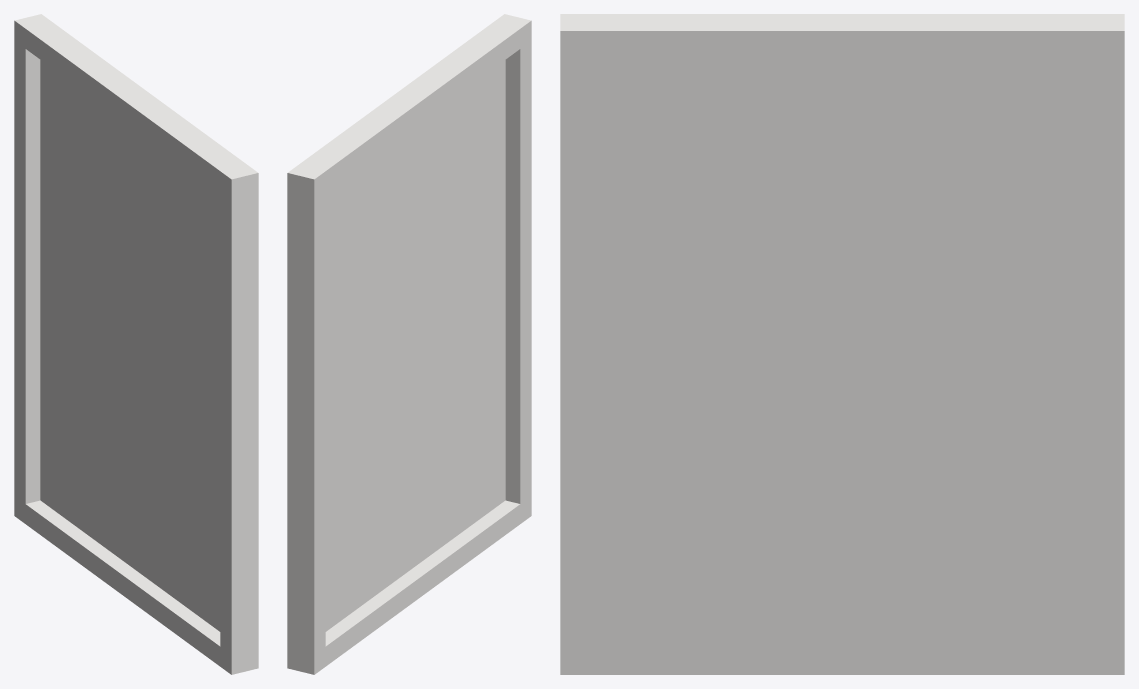
Rendered from Wall_Picture.004.fbx.
The picture shows the model from 3 angles, left to right: view 1: azimuth 30°, elevation 25°; view 2: azimuth 150°, elevation 25°; view 3: azimuth 270°, elevation 25°; orthographic projection. The views are drawn at different scales.
Parts seen in each view (by area): view 1: Wall_Picture.004; view 2: Wall_Picture.004; view 3: Wall_Picture.004.
Boxes of the visible parts, <box> form: Wall_Picture.004: <box>14,14,258,674</box>; Wall_Picture.004: <box>287,14,531,674</box>; Wall_Picture.004: <box>560,14,1124,674</box>.
Bounding box in the file's own units: 4.99 × 87.74 × 69.67.
